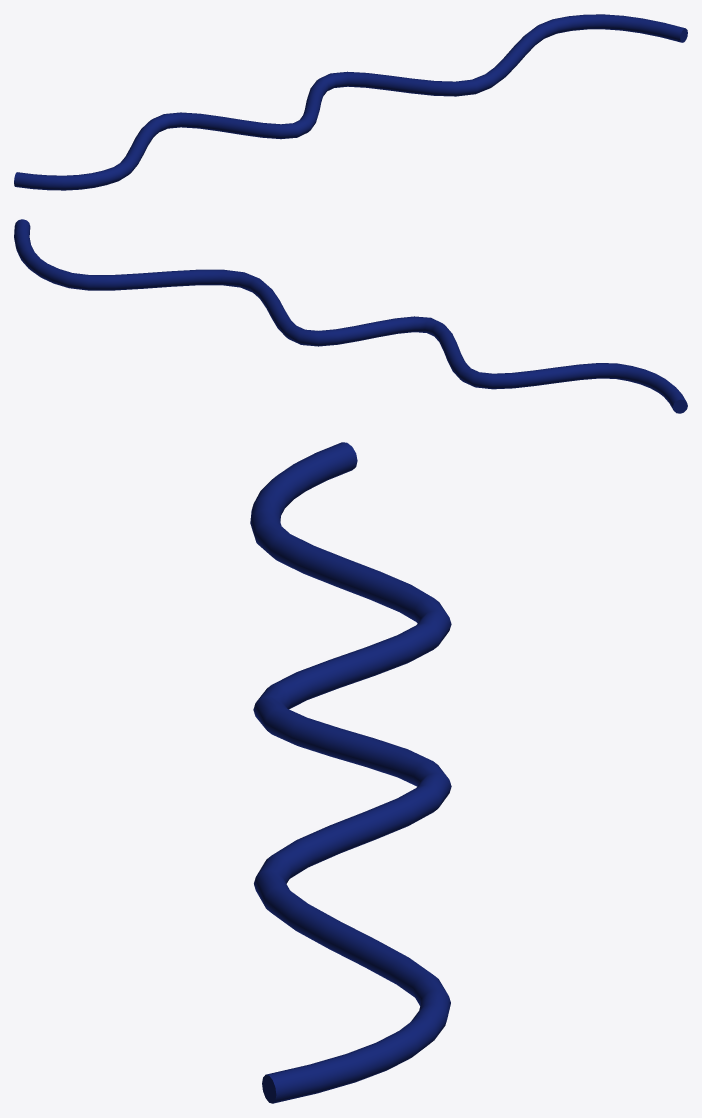
The model's file is Tube07_Mapa01.FBX.
The picture shows the model from 3 angles, top to bottom: view 1: azimuth 30°, elevation 25°; view 2: azimuth 150°, elevation 25°; view 3: azimuth 270°, elevation 25°; orthographic projection. The views are drawn at different scales.
Parts seen in each view (by area): view 1: Line010; view 2: Line010; view 3: Line010.
Part boxes in pixels (x1=…): Line010: x1=14, y1=14, x2=687, y2=190; Line010: x1=14, y1=219, x2=687, y2=413; Line010: x1=250, y1=442, x2=451, y2=1103.
Size of the model in its own units: 1268 by 25 by 168.
